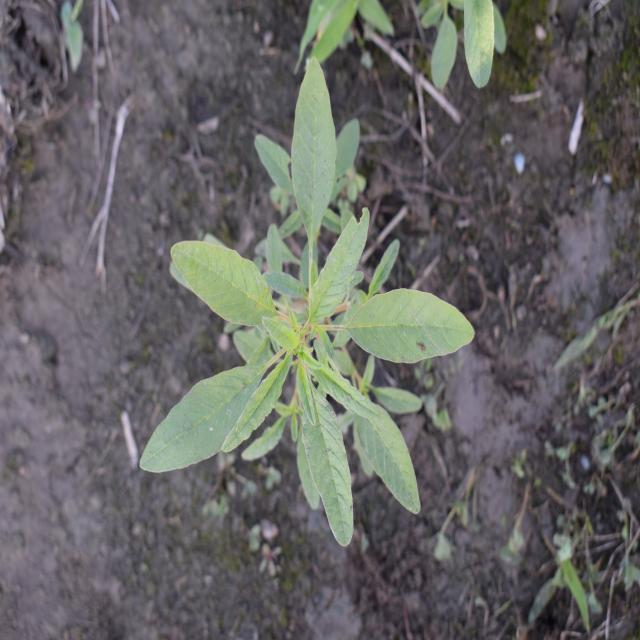Waterhemp: (138, 53, 476, 550)
